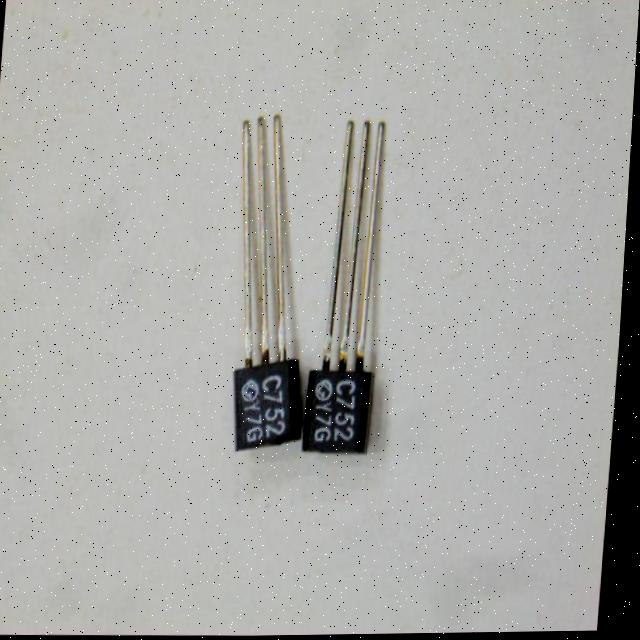Transistor: (306, 114, 409, 468), (224, 110, 298, 471)
